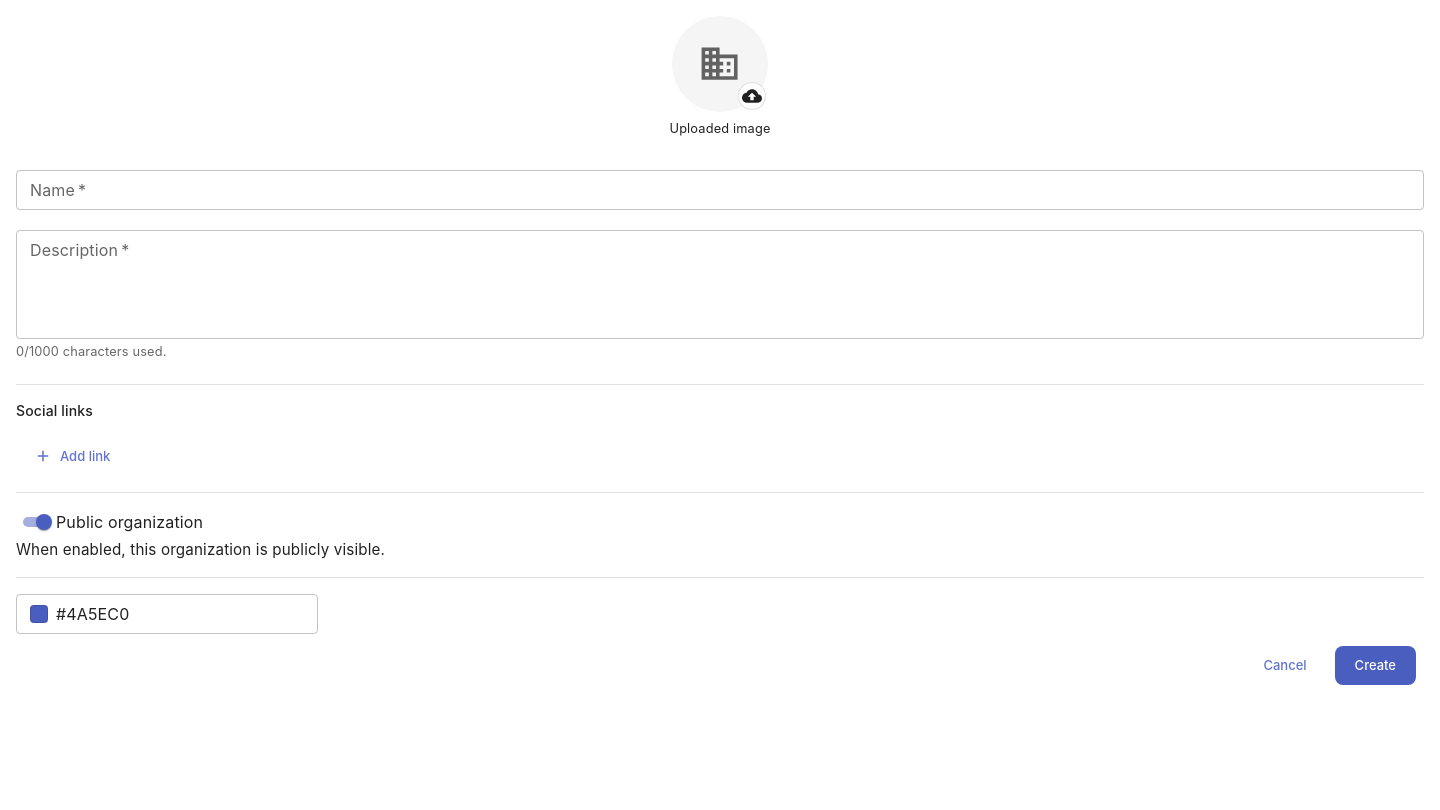
it: OrganizationForm › shows validation errors when name and description are empty
Click the button "Create" at [1375, 666], box [1335, 646, 1416, 685]
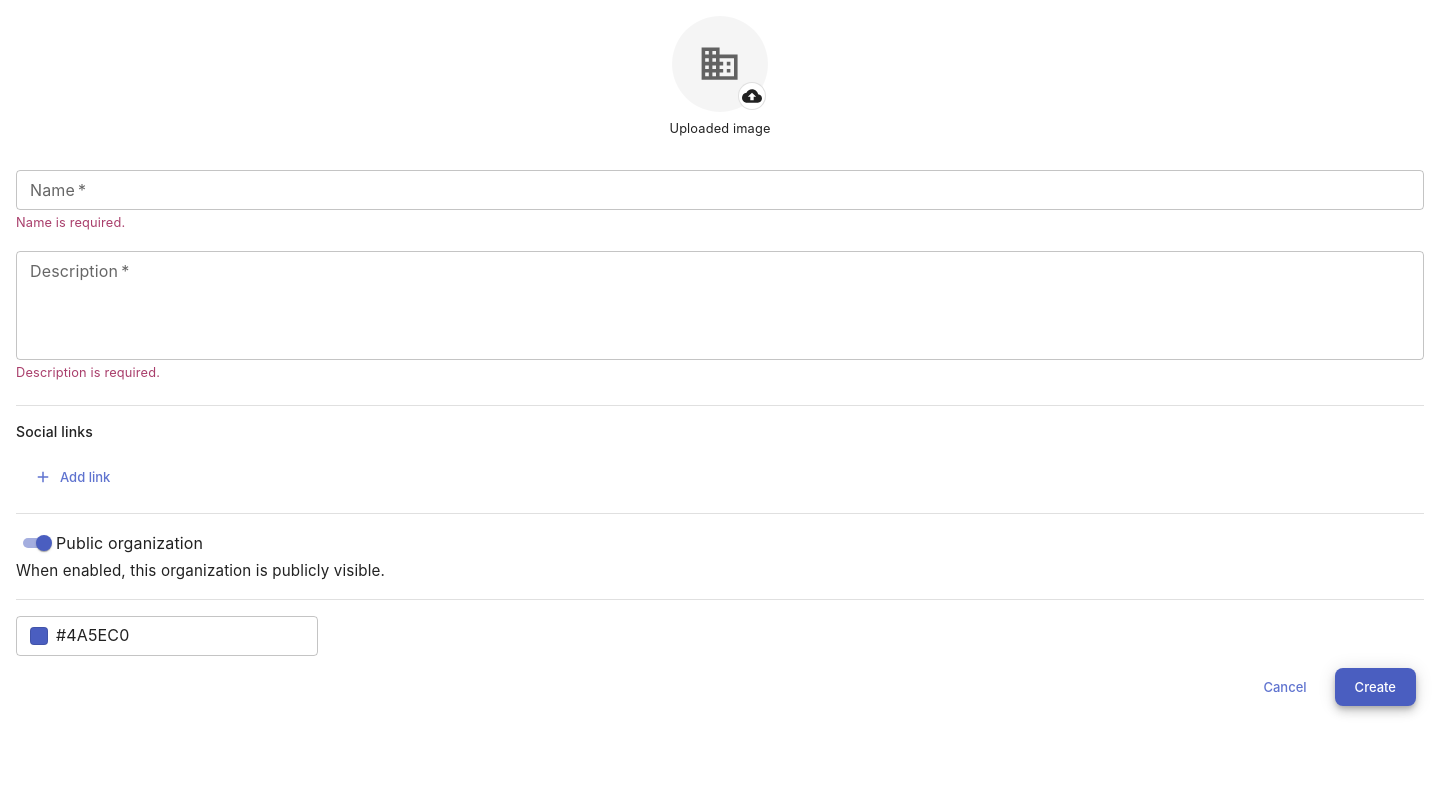
Expected: the text "Name is required." is shown, [16, 215, 125, 230]
Expected: the text "Description is required." is shown, [16, 365, 160, 380]
